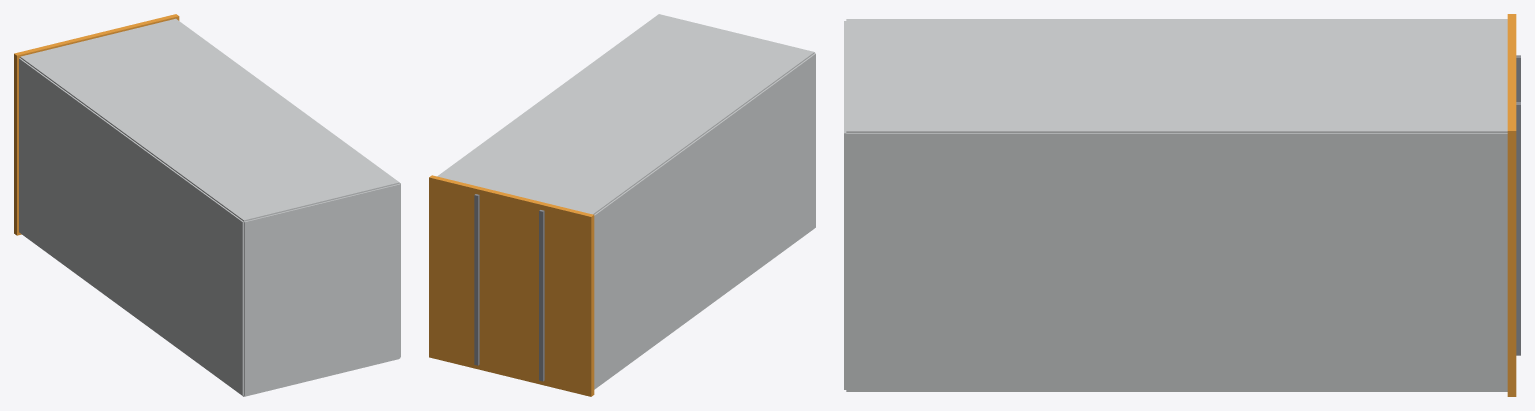
The model's file is shipping_container.glb.
The picture shows the model from 3 angles, left to right: view 1: azimuth 30°, elevation 25°; view 2: azimuth 150°, elevation 25°; view 3: azimuth 270°, elevation 25°; orthographic projection. The views are drawn at different scales.
Parts seen in each view (by area): view 1: shipping_container; view 2: shipping_container; view 3: shipping_container.
Part boxes in pixels (x1,y1,x2,y2): shipping_container: (14, 14, 400, 396); shipping_container: (429, 14, 815, 396); shipping_container: (844, 14, 1520, 396).
Bounding box in the file's own units: 2.5 × 2.65 × 6.11.
